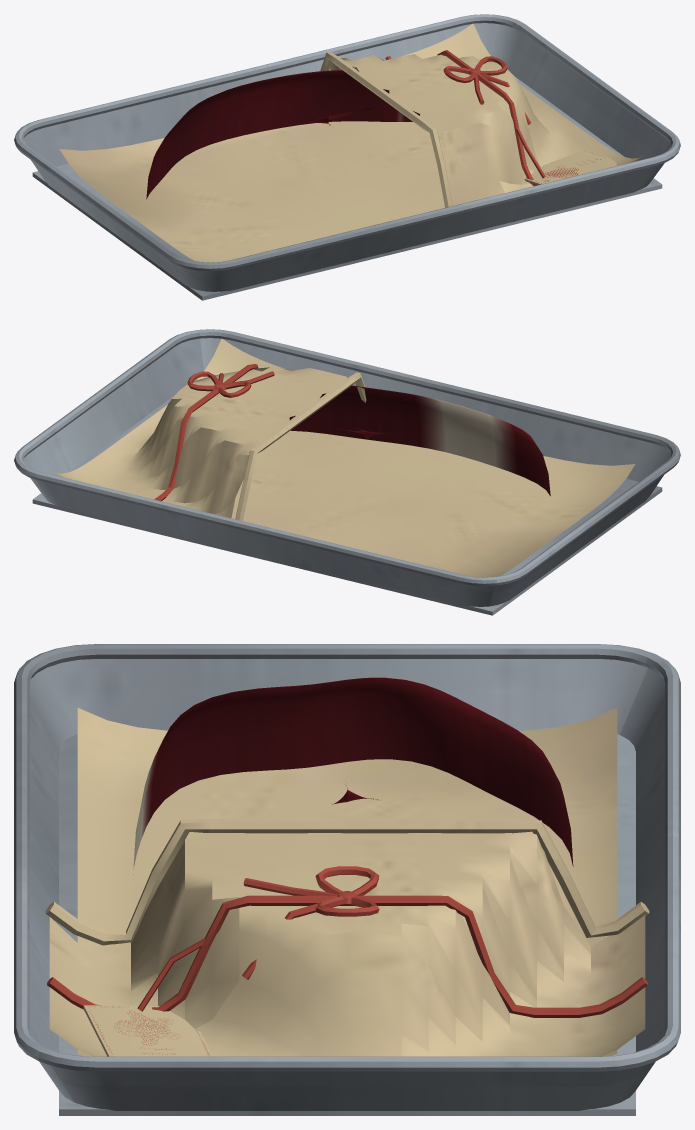
The model's file is grazer_steak.glb.
3 views of the same model, one above another, from view 1: azimuth 30°, elevation 25°; view 2: azimuth 150°, elevation 25°; view 3: azimuth 270°, elevation 25° (orthographic). The views are drawn at different scales.
Parts seen in each view (by area): view 1: Parcel; view 2: Parcel; view 3: Parcel.
Part boxes in pixels (box(x1,y1,x2,y2)): Parcel: box(14, 14, 680, 300); Parcel: box(14, 329, 680, 615); Parcel: box(14, 644, 680, 1115).
Bounding box in the file's own units: 0.2134 × 0.0342 × 0.1434.
Materials: 5 (4 with a texture image).
